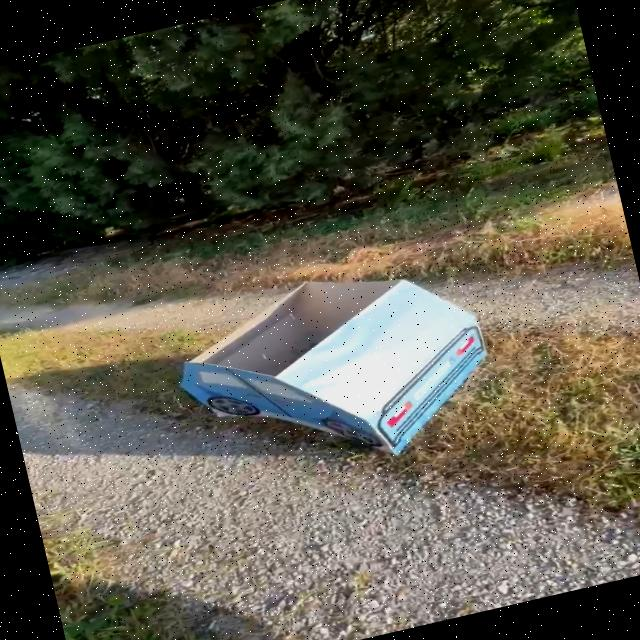blue_car: (105, 209, 575, 527)
